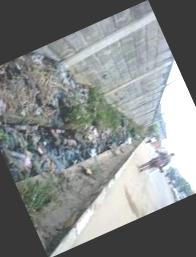Blocked drain: (0, 51, 142, 199)
